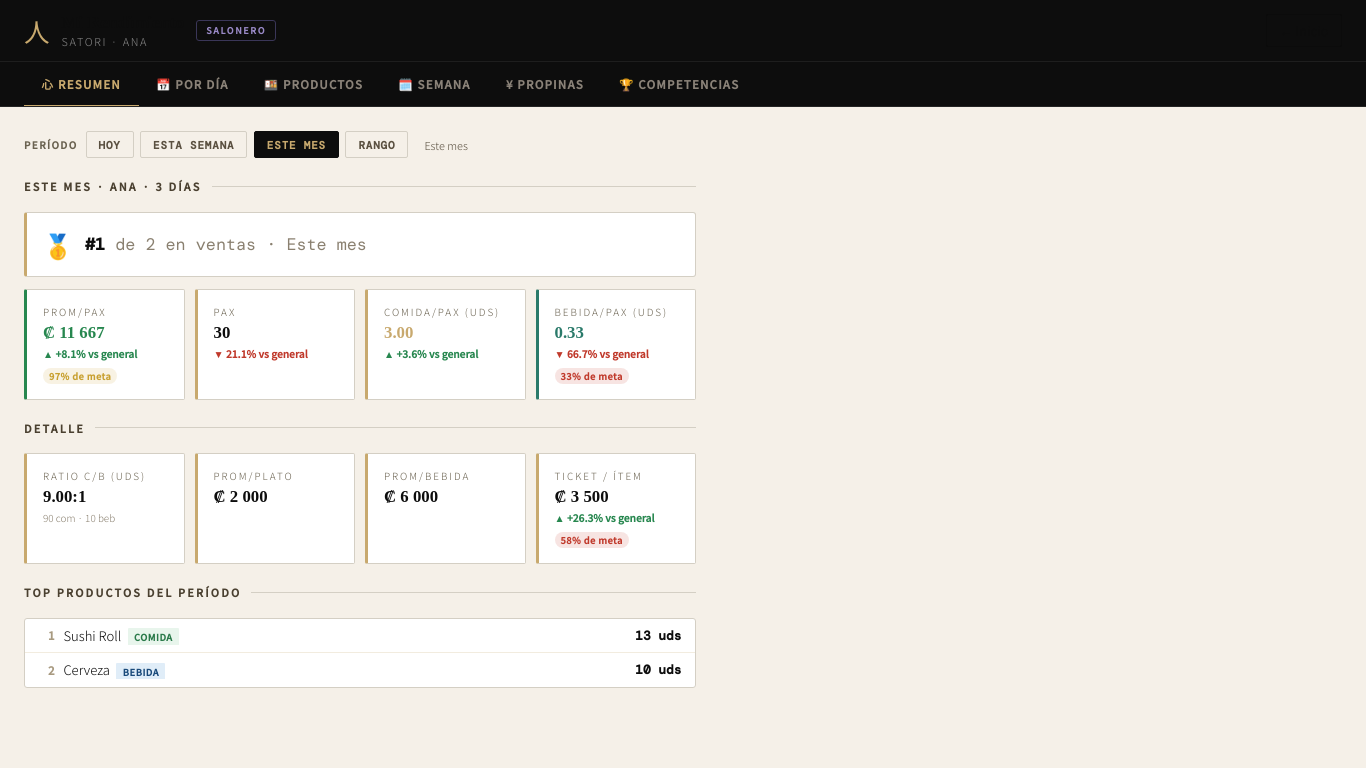
Test: MiRendimiento · render (salonero con match) › Productos separa Comidas / Bebidas en unidades (sin toggle ₡/uds)
This screenshot has width=1366, height=768.
Click the text with class "cd-nav-tab" showing "🍱 Productos" at [313, 84], box [264,76,363,92]
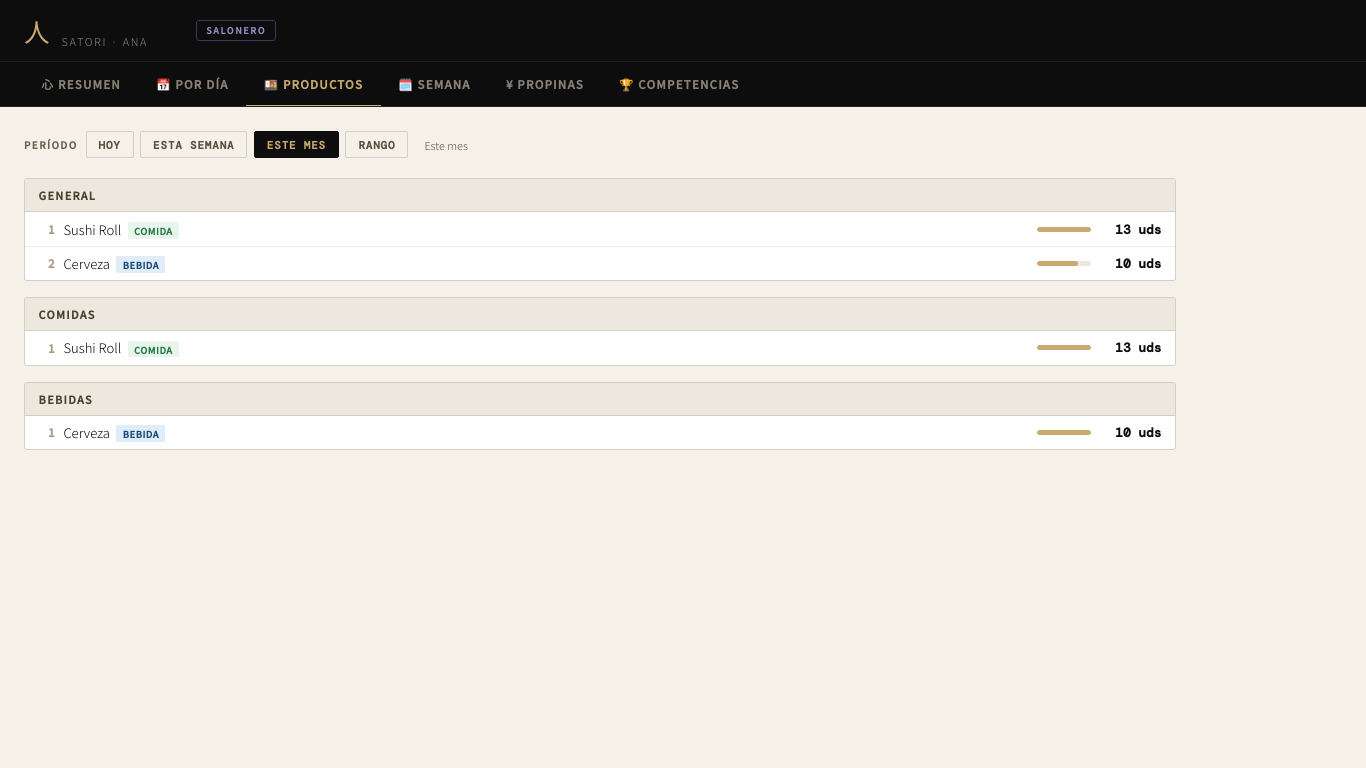
Expected: the 1st text "13 uds" is shown, [1115,221,1161,238]
Expected: the text "Comidas" is shown, [25,298,1175,331]
Expected: the text "Bebidas" is shown, [25,382,1175,416]
